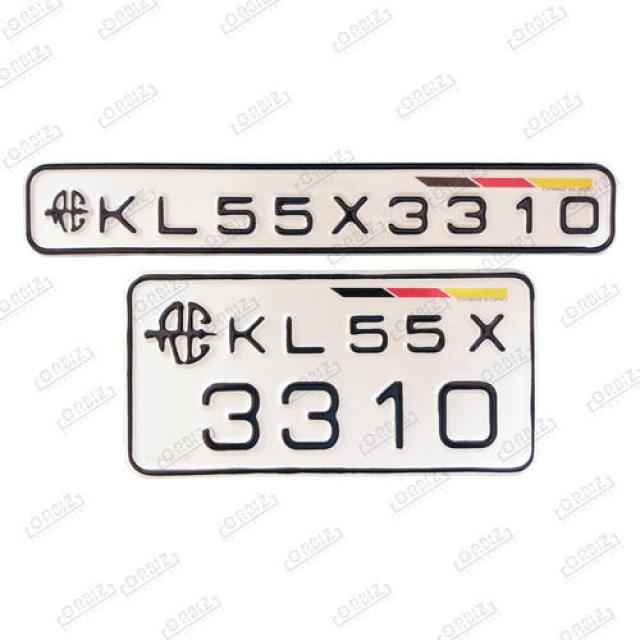plate: (121, 269, 540, 480), (21, 162, 620, 258)
